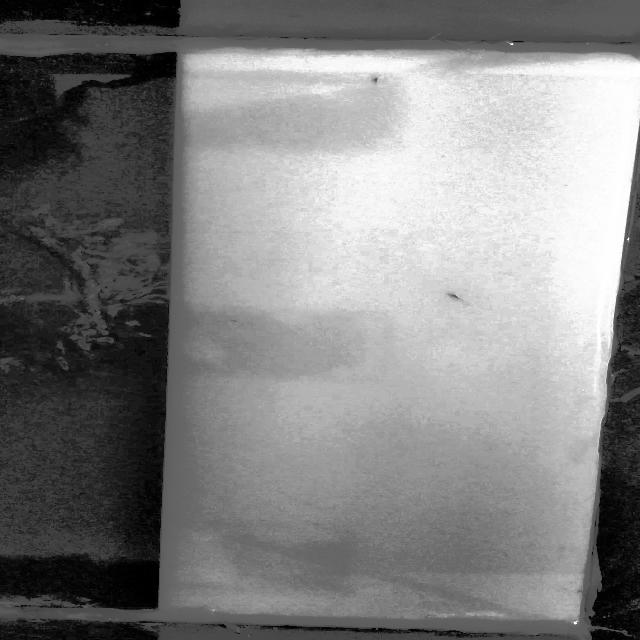shrimp: (444, 289, 473, 302), (366, 73, 386, 85)
